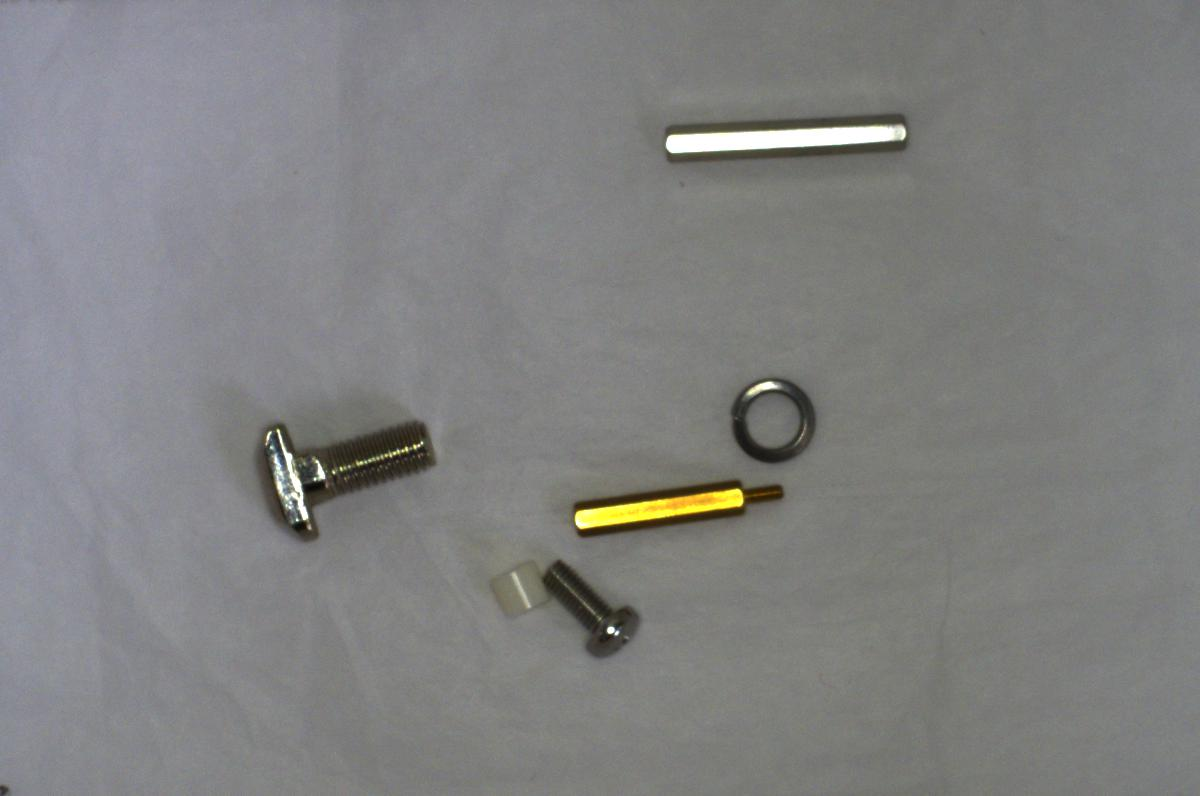Double hexagonal column: (654, 108, 922, 168)
Hexagon pillar: (570, 472, 791, 548)
Plastic cushion pillar: (482, 550, 552, 622)
Round head screw: (539, 560, 647, 668)
Spring washer: (717, 373, 824, 469)
